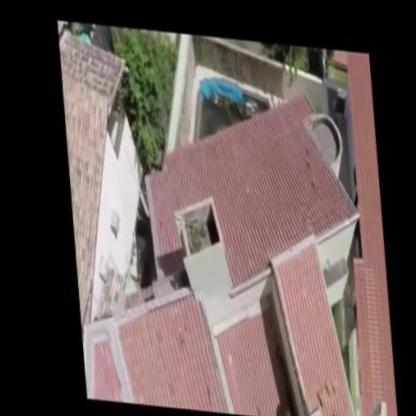agua: (202, 93, 250, 114)
